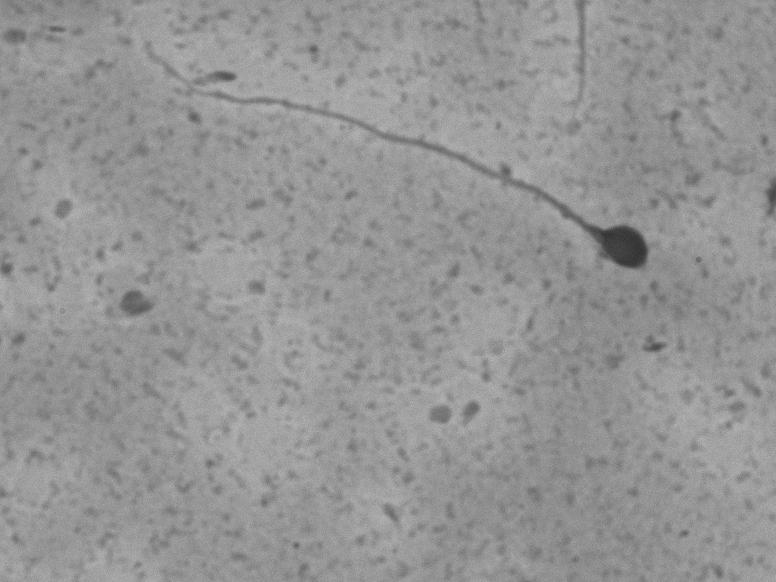Abnormal: (123, 31, 677, 302)
